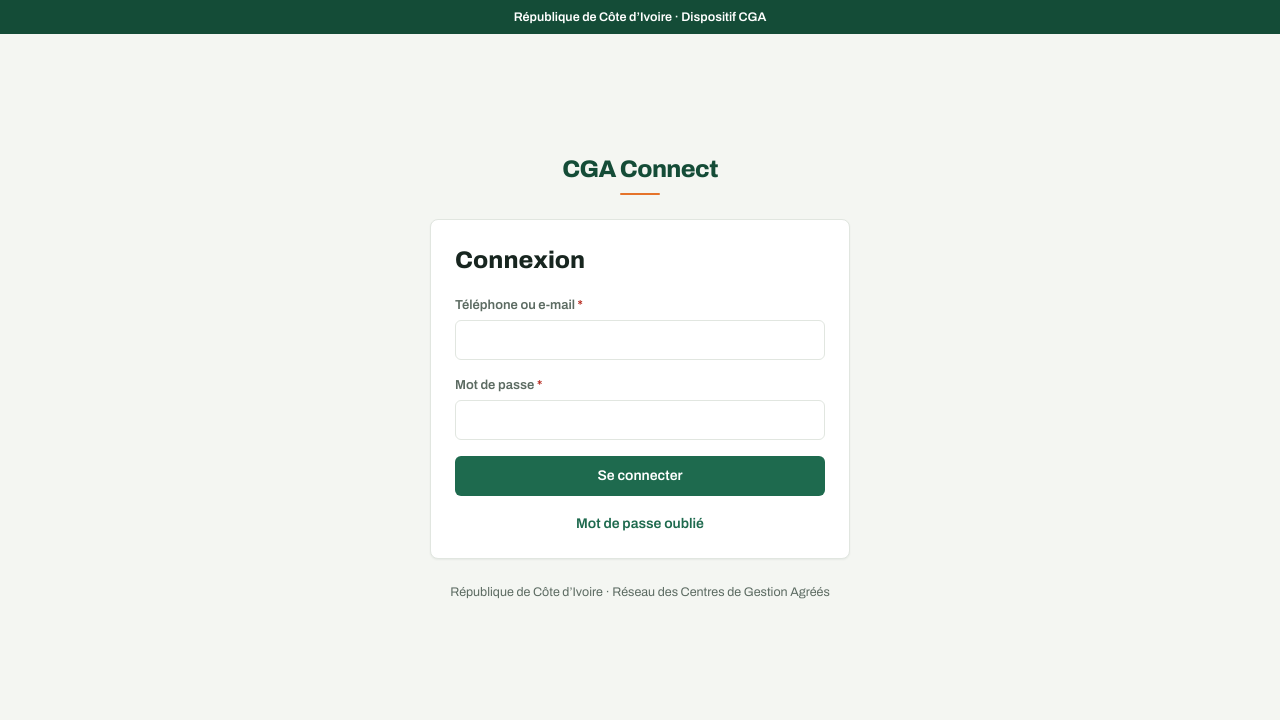
Page de connexion (F-AUTH-01, 03-APPFLOW §2) › F-AUTH-01 · des identifiants refusés donnent « Identifiants incorrects », la saisie restant à l’écran
This screenshot has width=1280, height=720.
Type "gerant@dc-knowing.ci" into the field labelled "Téléphone ou e-mail *". click: (640, 340)
box: [455,320,825,360]
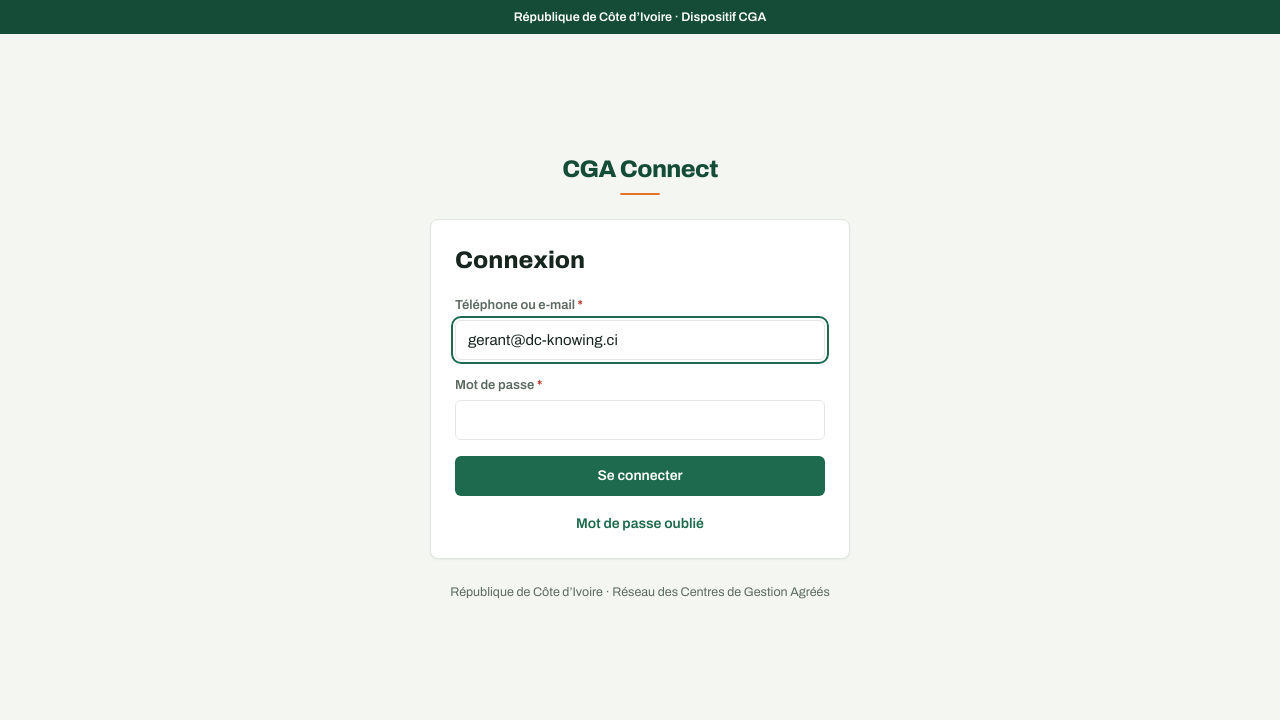
Type "mauvais" into the password field labelled "Mot de passe *". click: (640, 420)
box: [455,400,825,440]
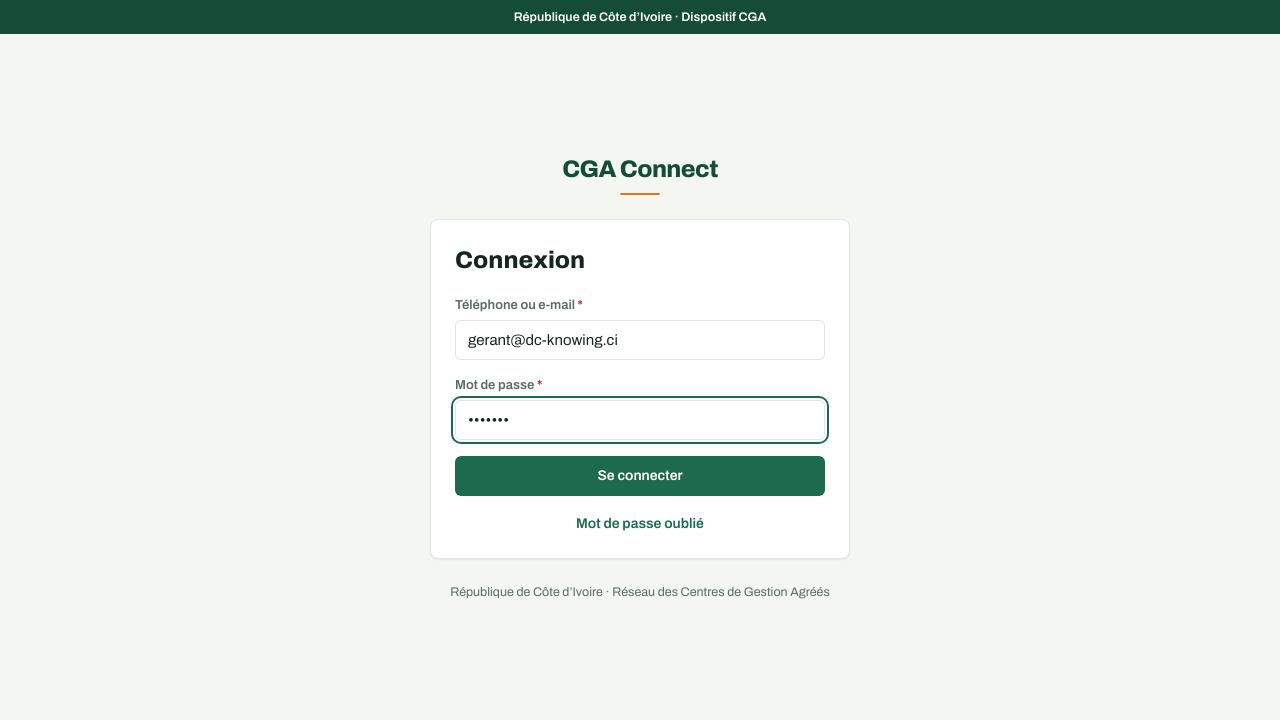
Click the button "Se connecter". click: (640, 476)
box: [455,456,825,496]
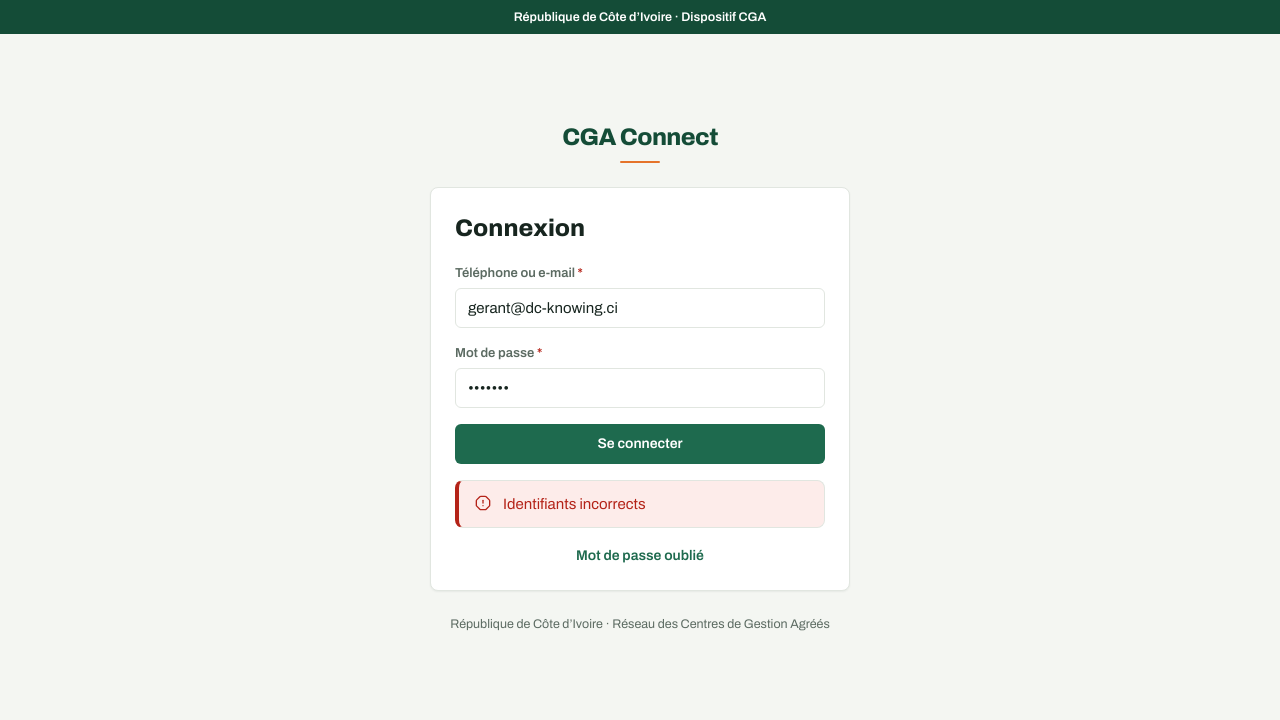
Check: the message reads "Identifiants incorrects", box [503,496,646,512]
